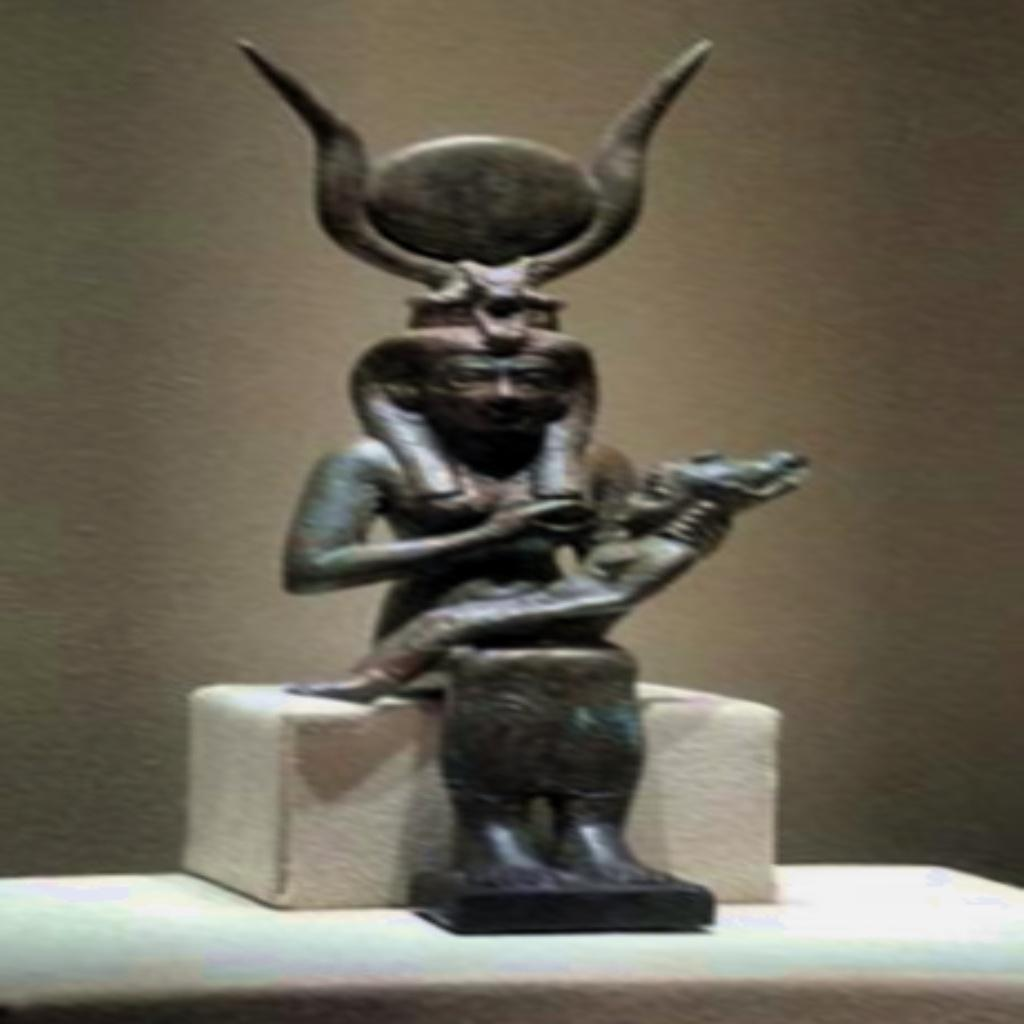Isis with her child: (214, 27, 832, 938)
